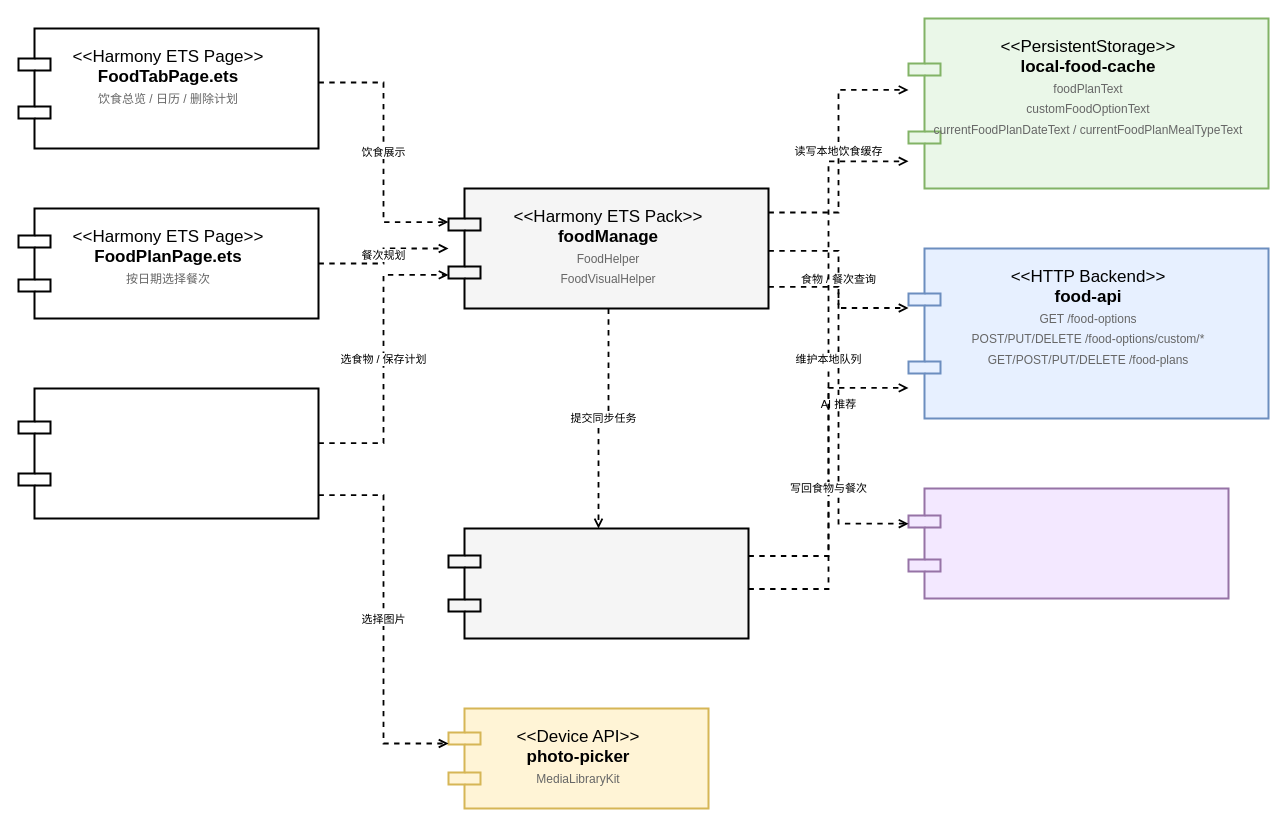
Image size: 1286x826. Some labels were removed from this diagram. Here are the shapes that lost their labels. From the top down, the centre of each, then its label:
(x=168, y=453): <<Harmony ETS Page>> FoodSelectionPage.ets 选食物 / 自定义食物 / AI 推荐
(x=1068, y=543): <<Third-party AI API>> recommendation-api 饮食 / 运动候选排序
(x=598, y=583): <<Harmony ETS Pack>> syncCore 食物与餐次同步
